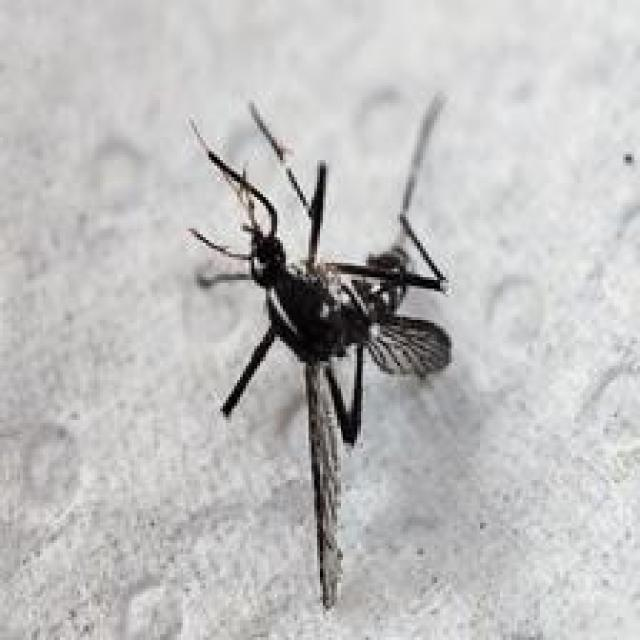Aedes albopictus: (184, 90, 456, 610)
